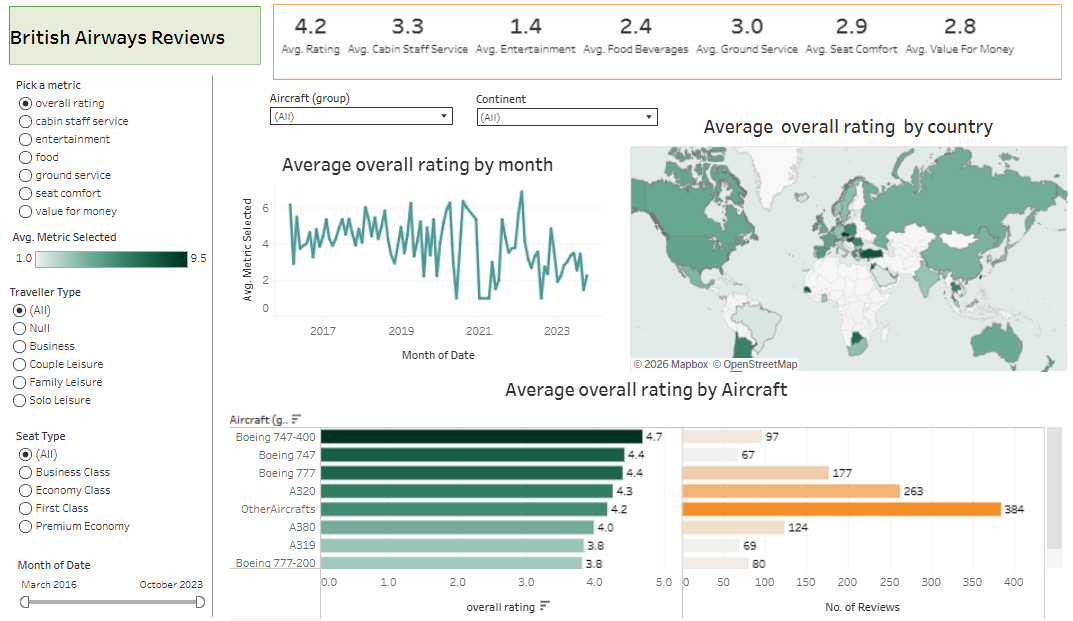

Layout of this report page (visuals, bound fields, positions):
{"tool":"tableau","page":{"name":"Dashboard 1","canvas":[1200,700],"ordinal":0},"visuals":[{"type":"worksheet","title":"Summary","mark":"Automatic","box":[308,6,876,84]},{"type":"text","box":[14,8,280,65]},{"type":"parameter","param":"[Parameters].[Parameter 1]","box":[18,83,219,173]},{"type":"blank","box":[240,85,1,602]},{"type":"filter","title":"Map","param":"[federated.0mqtsu10hp55ds18j7bte125c2oi].[Aircraft (group)]","box":[304,101,205,48]},{"type":"filter","title":"Map","param":"[federated.0mqtsu10hp55ds18j7bte125c2oi].[none:Continent:nk]","box":[533,102,204,48]},{"type":"worksheet","title":"Map","mark":"Automatic","box":[704,121,487,294]},{"type":"worksheet","title":"Month","mark":"Automatic","rows":["Calculation_0014316525441039"],"cols":["date"],"box":[263,163,411,247]},{"type":"legend","title":"Map","param":"[federated.0mqtsu10hp55ds18j7bte125c2oi].[avg:Calculation_0014316525441039:qk]","box":[18,256,221,52]},{"type":"filter","title":"Map","param":"[federated.0mqtsu10hp55ds18j7bte125c2oi].[none:traveller_type:nk]","box":[15,317,219,145]},{"type":"worksheet","title":"Aircraft","mark":"Automatic","cols":["Calculation_0014316525441039","ba_reviews.csv_BF1BDEEC1BFC41DEACC213D8CF796FBF"],"box":[260,413,924,277]},{"type":"filter","title":"Map","param":"[federated.0mqtsu10hp55ds18j7bte125c2oi].[none:seat_type:nk]","box":[22,477,217,125]},{"type":"filter","title":"Map","param":"[federated.0mqtsu10hp55ds18j7bte125c2oi].[tmn:date:qk]","box":[24,620,210,62]}]}

Visuals, with their boxes in screenshot pixels (x1, y1, x2, y2), scaled from the page's 1200x700 canvas onto the 1073x621 screenshot:
"Summary" worksheet: x1=275 y1=5 x2=1059 y2=80
text: x1=13 y1=7 x2=263 y2=65
parameter: x1=16 y1=74 x2=212 y2=227
"Map" filter: x1=272 y1=90 x2=455 y2=132
"Map" filter: x1=477 y1=90 x2=659 y2=133
"Map" worksheet: x1=629 y1=107 x2=1065 y2=368
"Month" worksheet: x1=235 y1=145 x2=603 y2=364
"Map" legend: x1=16 y1=227 x2=214 y2=273
"Map" filter: x1=13 y1=281 x2=209 y2=410
"Aircraft" worksheet: x1=232 y1=366 x2=1059 y2=612
"Map" filter: x1=20 y1=423 x2=214 y2=534
"Map" filter: x1=21 y1=550 x2=209 y2=605
